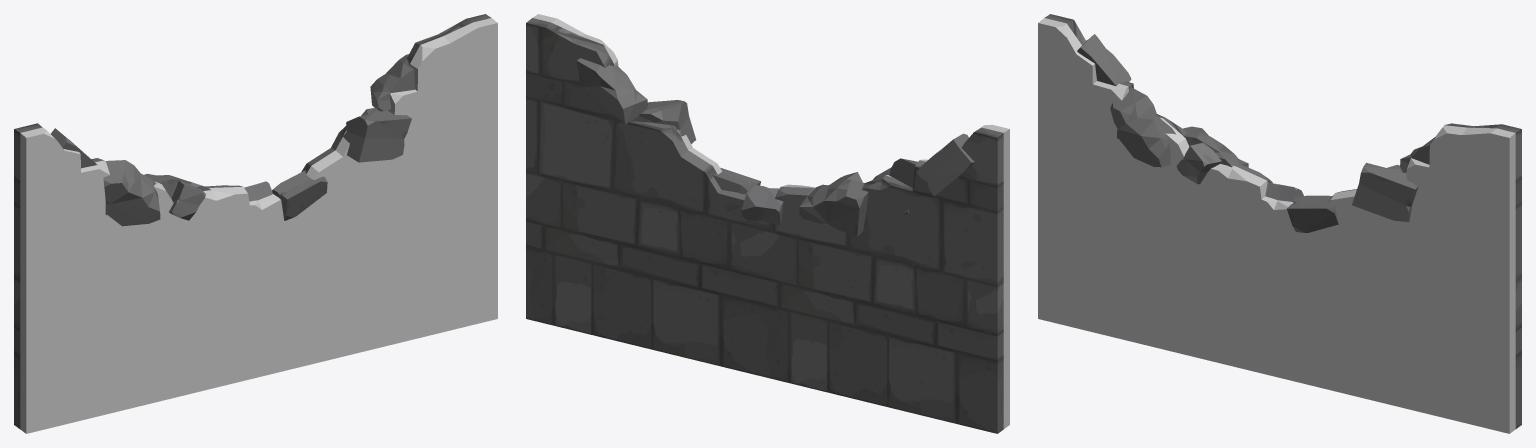
Rendered from SM_Bld_Wall_L_Damaged_Double_02_Alt_01.fbx.
3 renders of one model, left to right at view 1: azimuth 30°, elevation 25°; view 2: azimuth 150°, elevation 25°; view 3: azimuth 330°, elevation 25°, orthographic.
Visible parts, largest first — view 1: SM_Bld_Wall_L_Damaged_Double_02_Alt_01; view 2: SM_Bld_Wall_L_Damaged_Double_02_Alt_01; view 3: SM_Bld_Wall_L_Damaged_Double_02_Alt_01.
Boxes of the visible parts, box(x1,y1,x2,y2) form: SM_Bld_Wall_L_Damaged_Double_02_Alt_01: box(14, 14, 497, 433); SM_Bld_Wall_L_Damaged_Double_02_Alt_01: box(526, 14, 1009, 433); SM_Bld_Wall_L_Damaged_Double_02_Alt_01: box(1038, 14, 1521, 433).
Size of the model in its own units: 1000 by 601 by 114.
